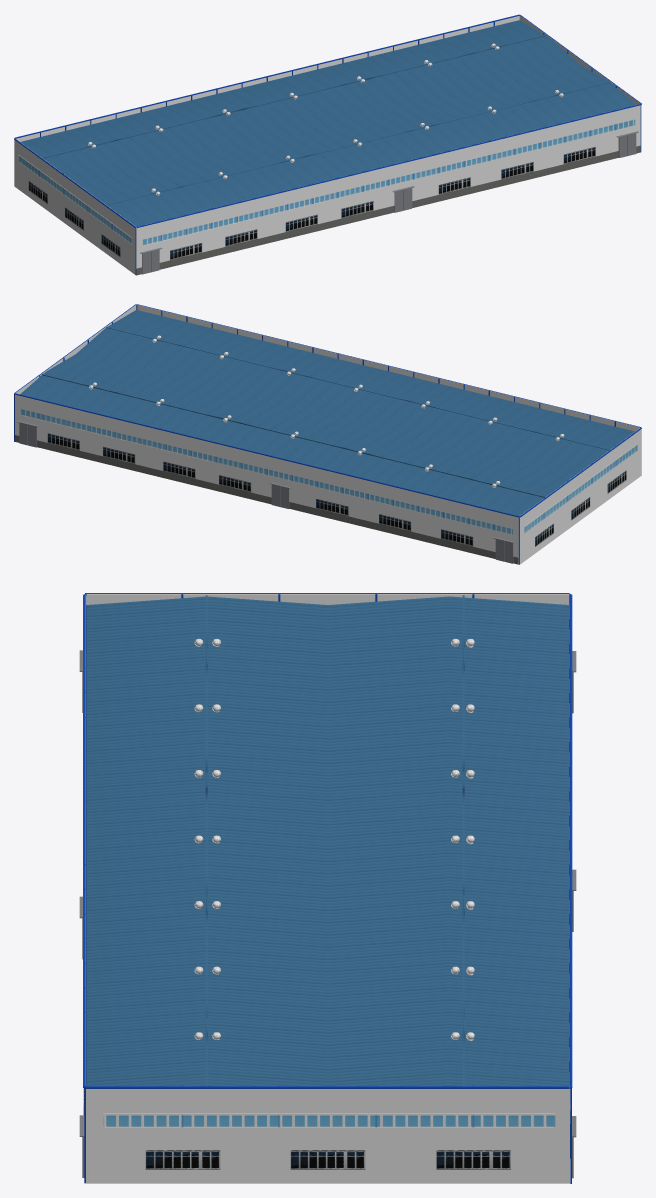
3 renders of one model, top to bottom at view 1: azimuth 30°, elevation 25°; view 2: azimuth 150°, elevation 25°; view 3: azimuth 270°, elevation 25°, orthographic. The views are drawn at different scales.
Parts seen in each view (by area): view 1: 顶棚, Box_Qiang_002, Box059, 顶窗002, Box_Qiang_001, Box025, Box051, Box107, 顶窗004, Box081, Box058; view 2: 顶棚, Box_Qiang_001, Box059, 顶窗001, Box_Qiang_002, Box051, Box107, 顶窗004, Box081, Box025, Box058; view 3: 顶棚, Box058, 顶窗003, Box059, 底窗017, 底窗016, 底窗018, Box051, Box081, Box107, Box031, Box025.
Boxes of the visible parts, x1,y1,x2,y2 form: 顶棚: [20, 20, 635, 226]; Box_Qiang_002: [136, 105, 640, 275]; Box059: [14, 140, 135, 274]; 顶窗002: [142, 119, 635, 245]; Box_Qiang_001: [16, 16, 519, 141]; Box025: [137, 104, 641, 227]; Box051: [15, 14, 519, 138]; Box107: [42, 35, 546, 158]; 顶窗004: [18, 155, 131, 244]; Box081: [106, 82, 610, 205]; Box058: [519, 15, 640, 104]; 顶棚: [20, 310, 634, 515]; Box_Qiang_001: [15, 394, 518, 564]; Box059: [519, 428, 640, 564]; 顶窗001: [20, 408, 512, 535]; Box_Qiang_002: [137, 304, 639, 431]; Box051: [14, 393, 518, 517]; Box107: [41, 374, 545, 497]; 顶窗004: [524, 444, 637, 533]; Box081: [106, 327, 609, 450]; Box025: [137, 304, 640, 427]; Box058: [15, 305, 136, 394]; 顶棚: [86, 596, 569, 1086]; Box058: [86, 1086, 569, 1183]; 顶窗003: [103, 1113, 555, 1127]; Box059: [86, 593, 570, 604]; 底窗017: [290, 1150, 365, 1169]; 底窗016: [145, 1150, 220, 1169]; 底窗018: [436, 1150, 510, 1169]; Box051: [570, 594, 572, 1087]; Box081: [205, 595, 207, 1086]; Box107: [462, 595, 464, 1086]; Box031: [85, 1086, 569, 1088]; Box025: [83, 594, 84, 1087].
Size of the model in its own units: 1206 by 114 by 512.
Materials: 8 (4 with a texture image).
